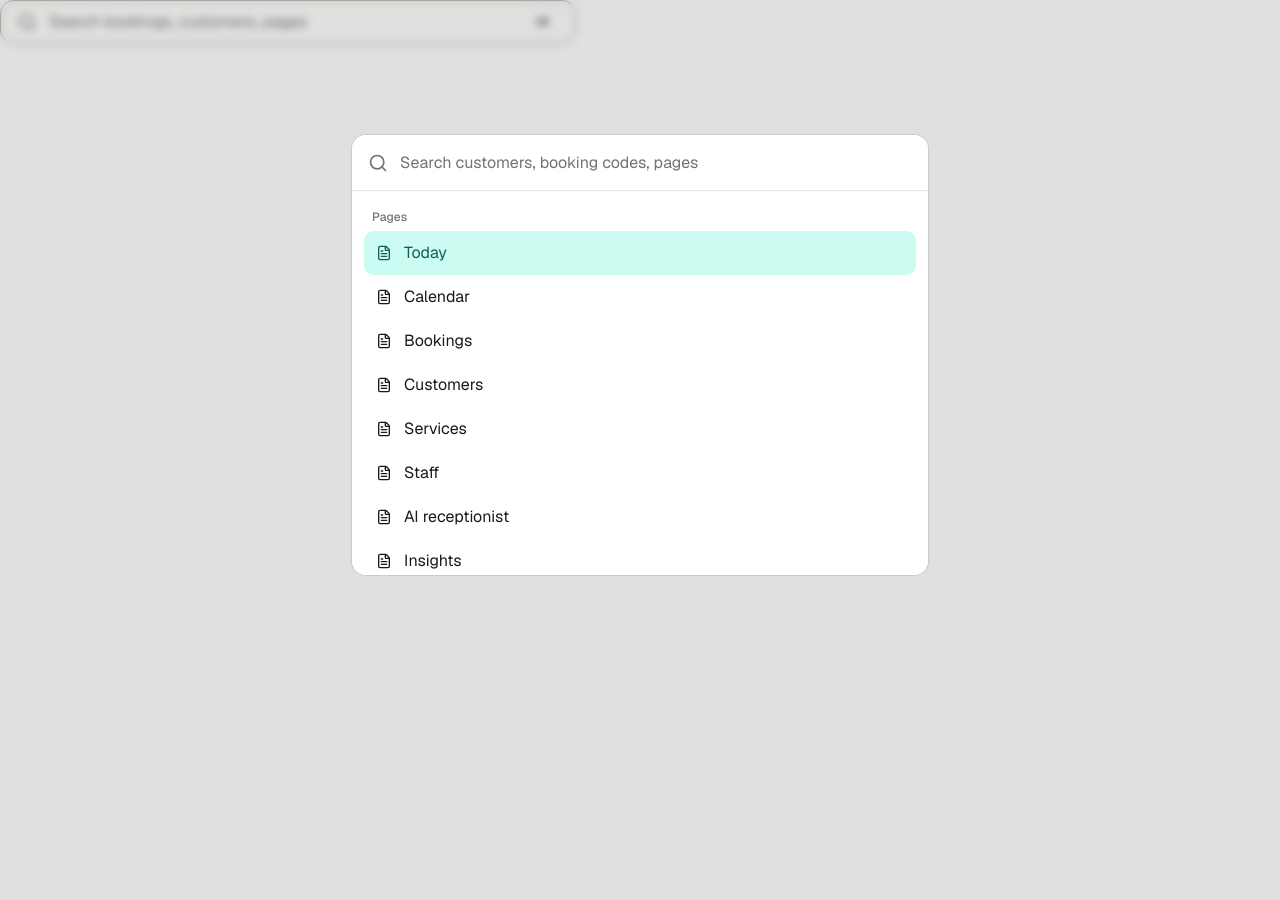
CommandPalette › shows only 'Searching…' while the search is in flight
Earlier steps of the test are not shown.
Type "zzzz" into the dropdown. click: {"x": 656, "y": 162}
box: [400,135,912,190]
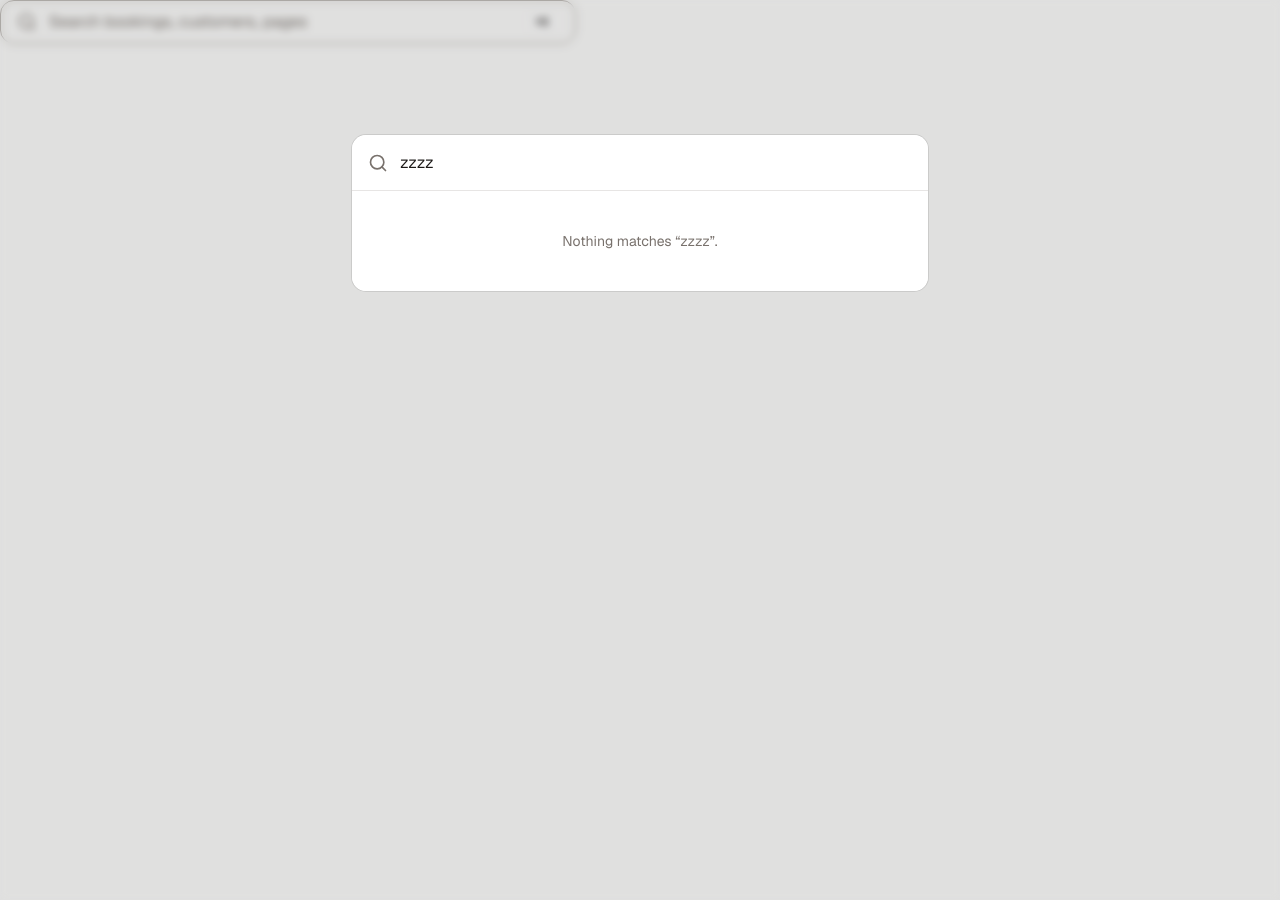
Expected: the text "Nothing matches “zzzz”." is shown, [562,232,718,250]
